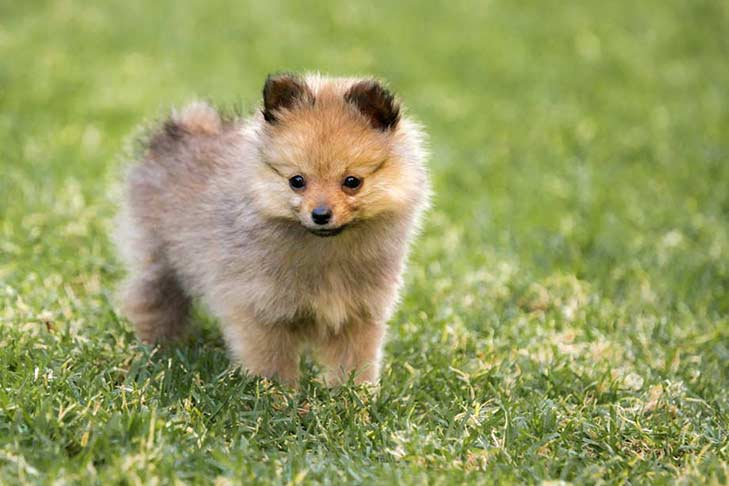pomeranian: (109, 62, 442, 413)
